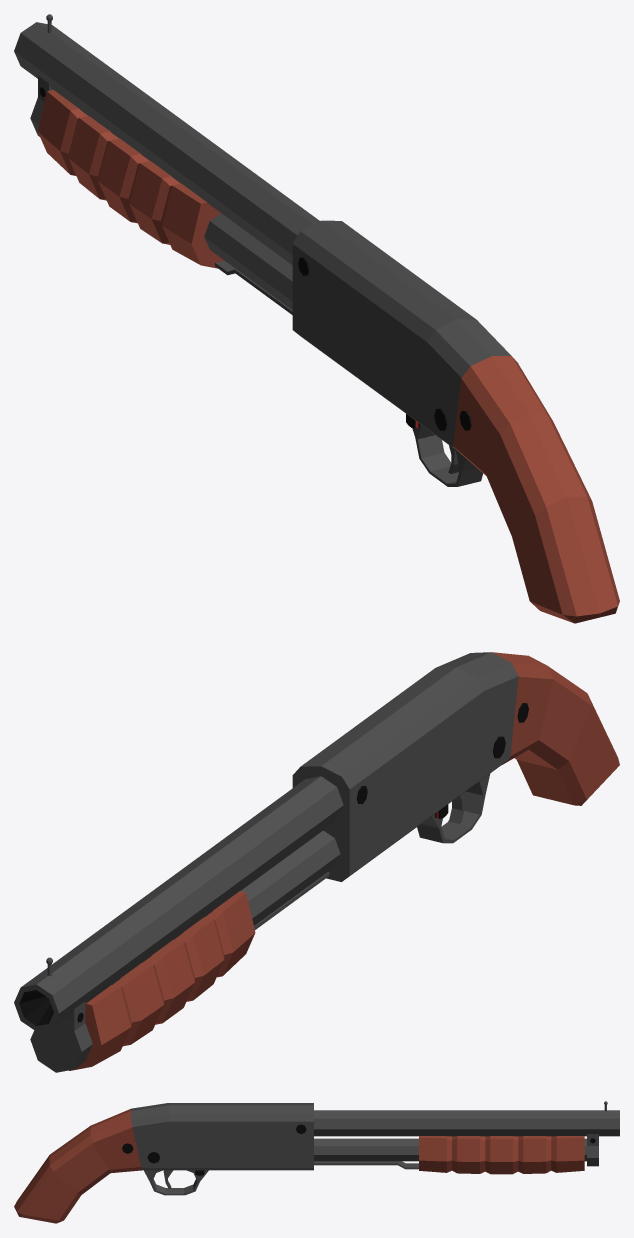
The model's file is ranger.glb.
The picture shows the model from 3 angles, top to bottom: view 1: azimuth 30°, elevation 25°; view 2: azimuth 150°, elevation 25°; view 3: azimuth 270°, elevation 25°; orthographic projection. The views are drawn at different scales.
Visible parts, largest first — view 1: Body, Pump; view 2: Body, Pump; view 3: Body, Pump.
Part boxes in pixels (x1,y1,x2,y2): Body: (14, 14, 619, 623); Pump: (37, 90, 223, 268); Body: (14, 652, 619, 1072); Pump: (69, 891, 255, 1070); Body: (14, 1101, 619, 1223); Pump: (419, 1136, 584, 1174).
Bounding box in the file's own units: 0.0834 × 0.2291 × 1.08.
